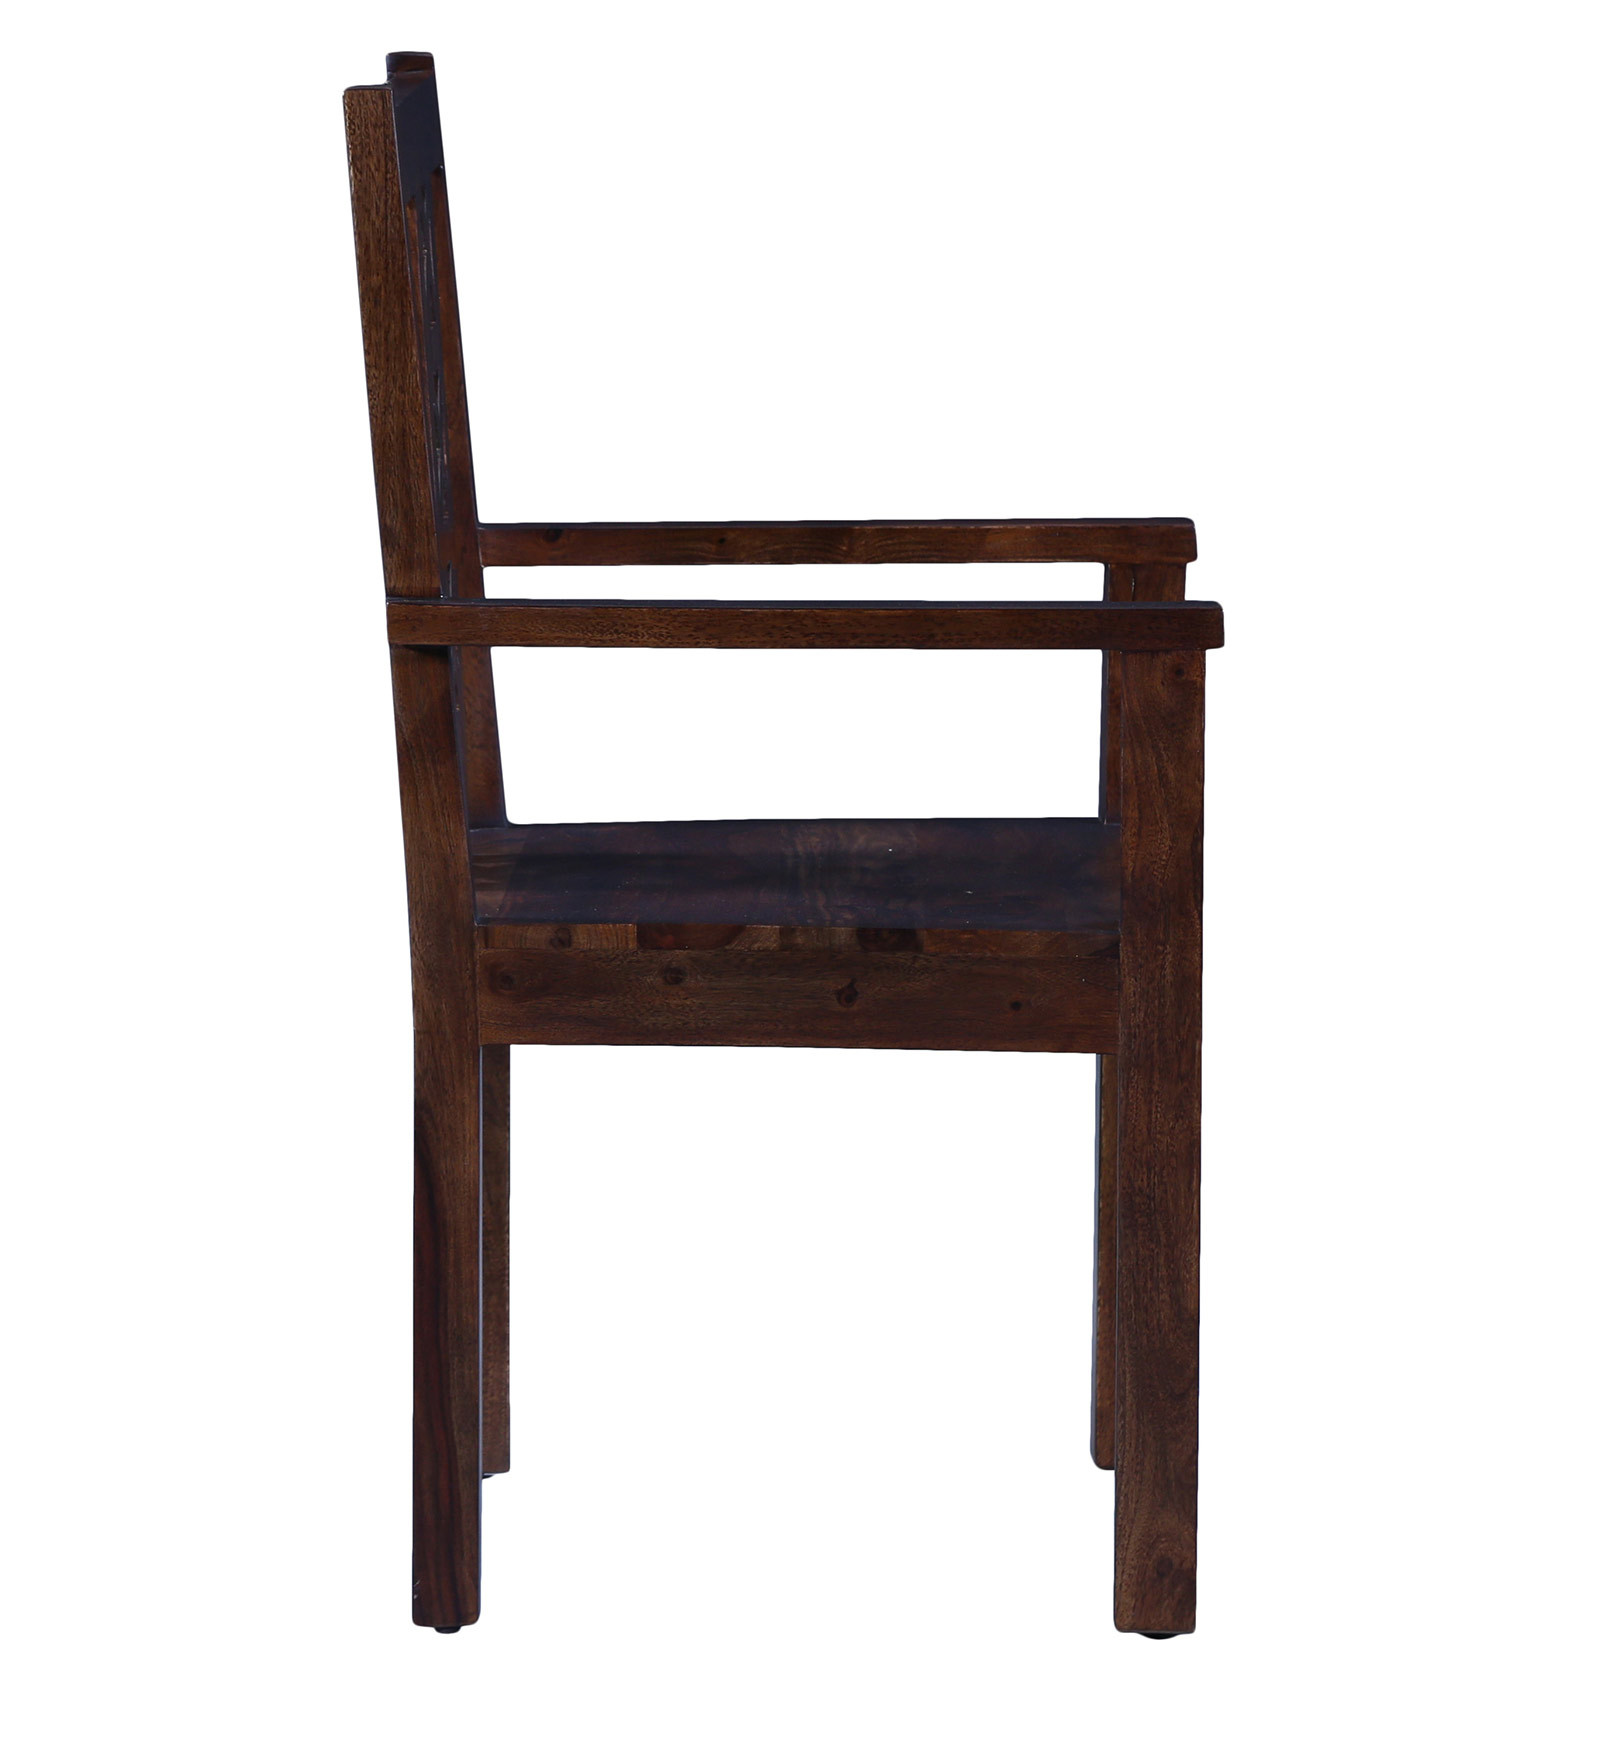Kryss Arm Chair in Provincial Teak Finish by Woodsworth: (251, 23, 1258, 1670)
